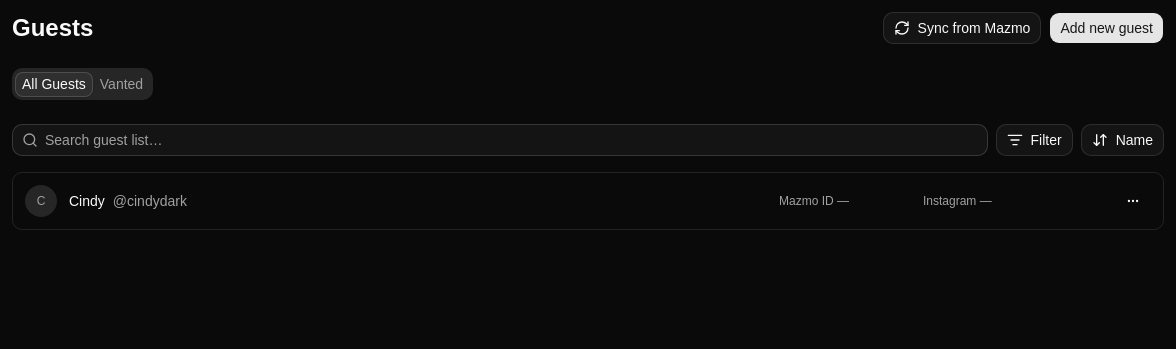
Test: GuestsPage — per-row identity management › shows Edit and Link/Unlink but never Ban for non-admin staff
Click the button named "Guest actions".
click(1133, 201)  # box [1115,187,1151,215]
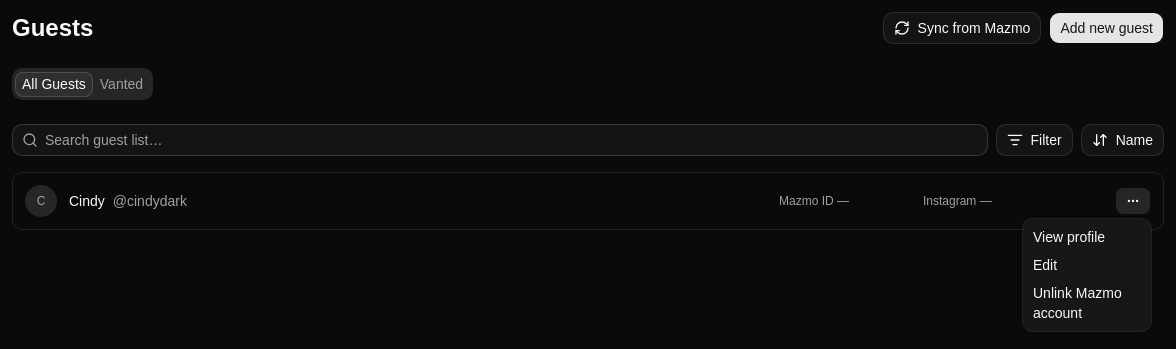
Expected: the menu item "Edit" is shown, [1033,257,1057,273]
Expected: the menu item "Unlink Mazmo account" is shown, [1033,285,1122,321]
